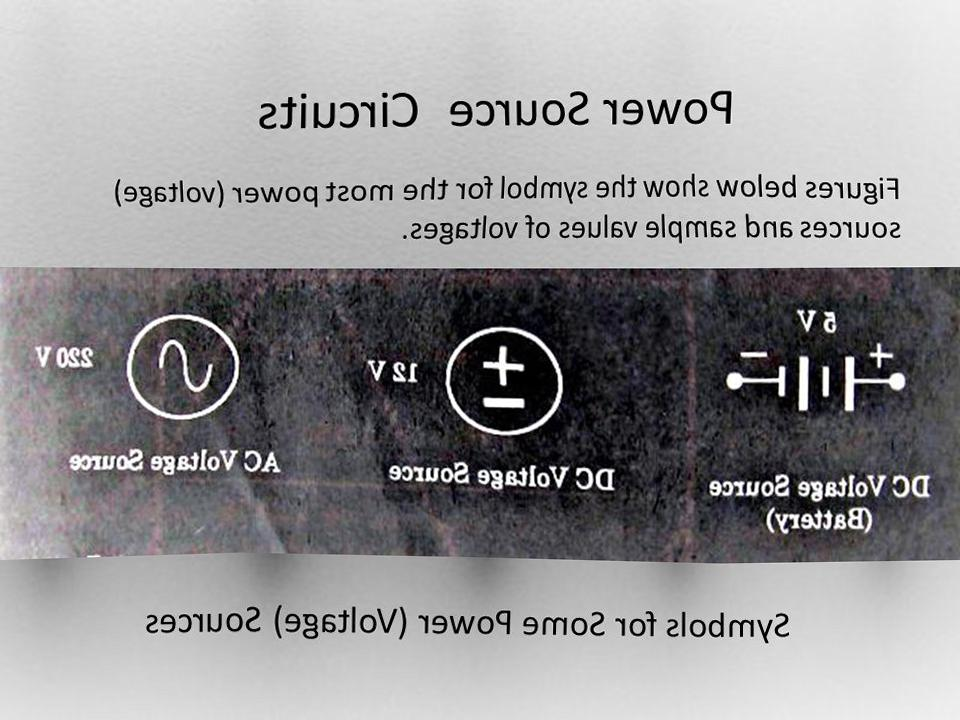Battery: (428, 308, 580, 444)
